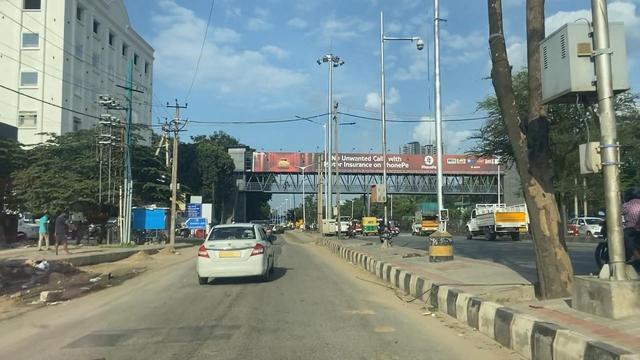LMV: (198, 221, 276, 287)
UnsurfacedRoad: (106, 300, 307, 360)
